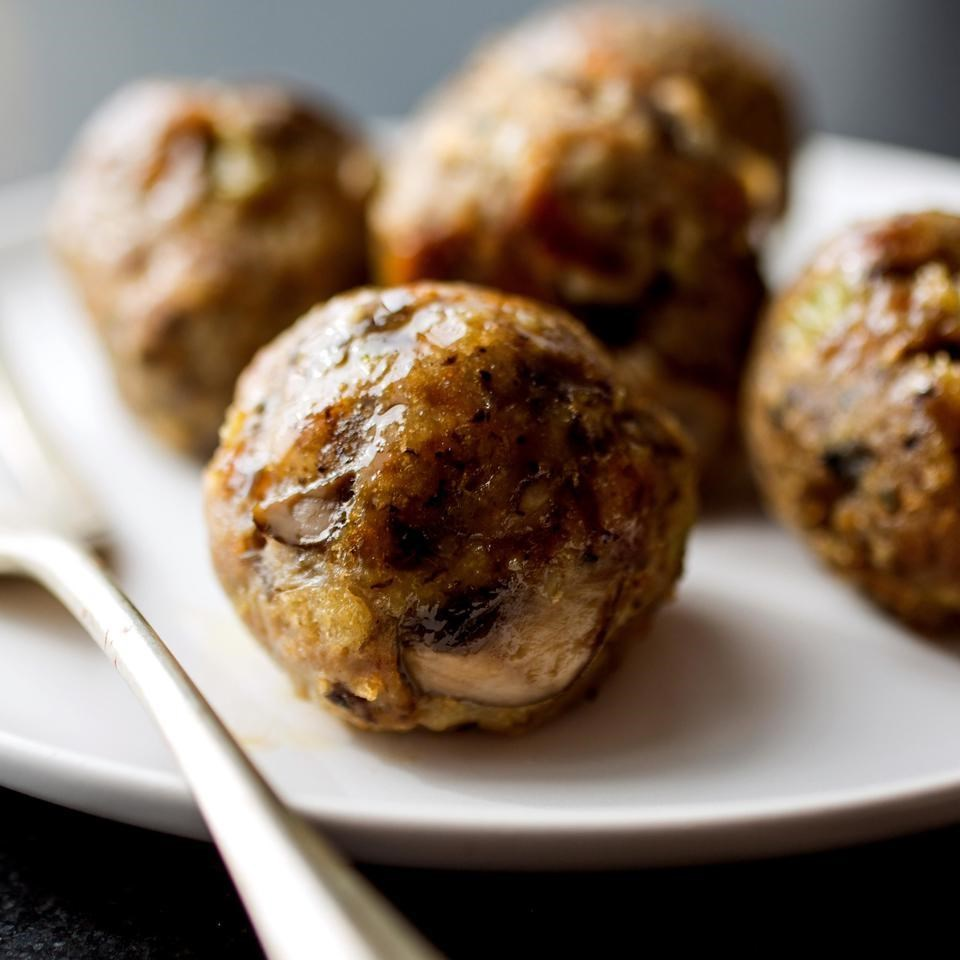meatballs: (260, 296, 655, 728)
